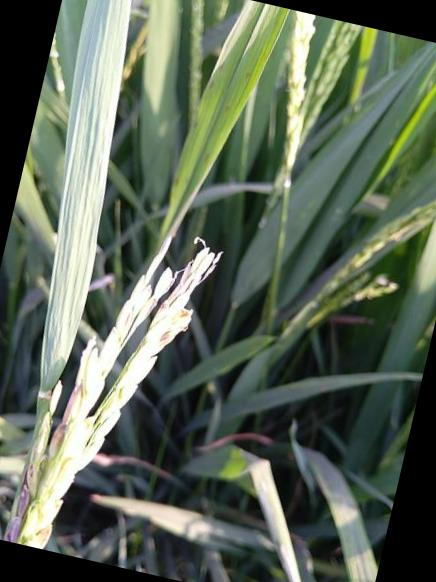Panicle Blight: (3, 464, 34, 543), (47, 384, 80, 458), (152, 305, 192, 354), (155, 268, 191, 318)
